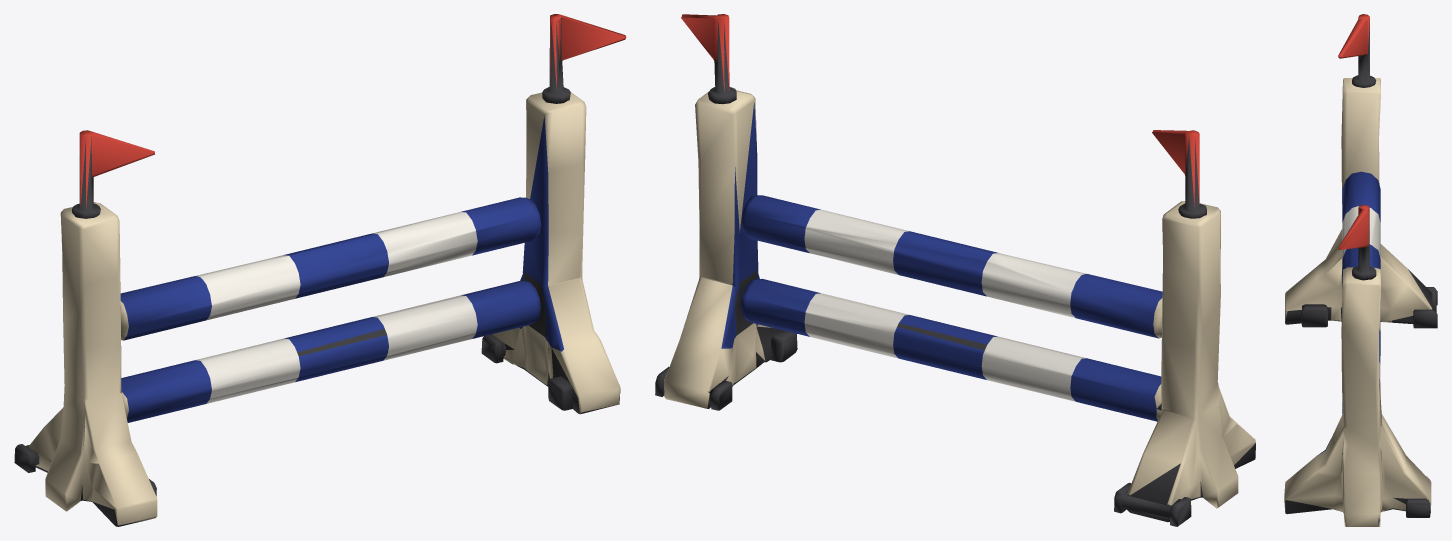
Rendered from Jump.glb.
3 renders of one model, left to right at view 1: azimuth 30°, elevation 25°; view 2: azimuth 150°, elevation 25°; view 3: azimuth 270°, elevation 25°, orthographic. The views are drawn at different scales.
Visible parts, largest first — view 1: Jump; view 2: Jump; view 3: Jump.
Boxes of the visible parts, x1,y1,x2,y2 form: Jump: (14,14,626,526); Jump: (655,14,1255,526); Jump: (1284,14,1437,526).
Size of the model in its own units: 0.9981 by 0.622 by 0.2832.
